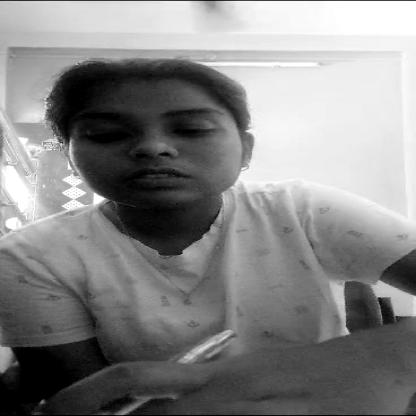Normal: (66, 67, 248, 200)
